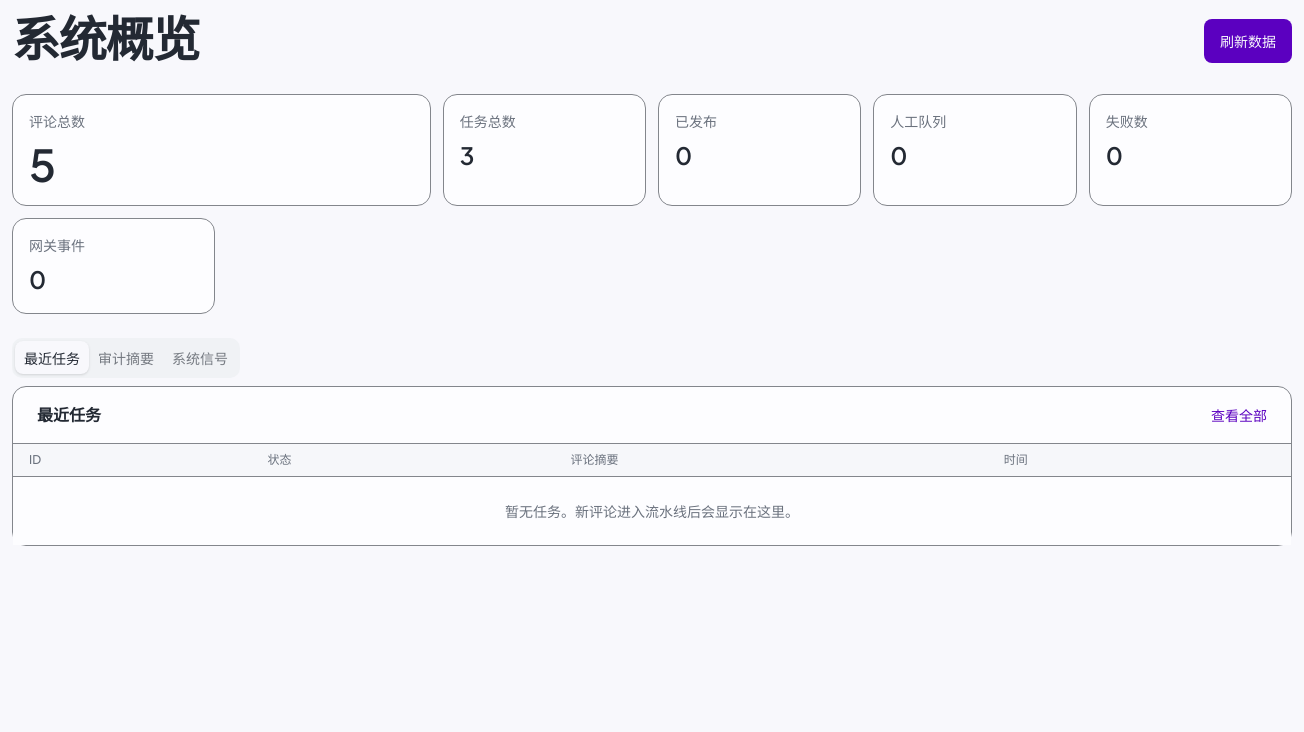
Scenario: W1 H-01 — Dashboard refresh 使用 invalidateQueries › 刷新期间按钮显示 aria-busy 和 spinner 文案
Click the button "刷新数据".
click(1248, 41)  # box [1204,19,1292,63]
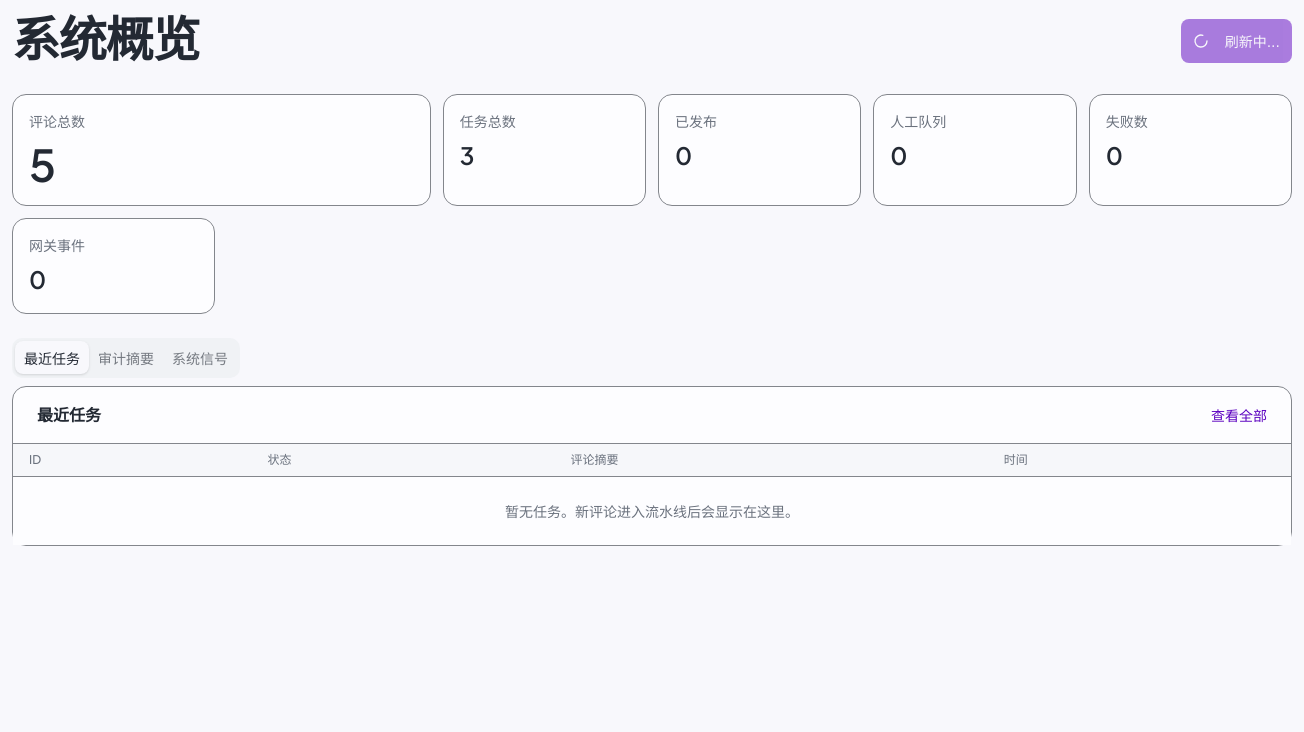
Now the button "刷新中..." is disabled, box [1181,19,1292,63]
